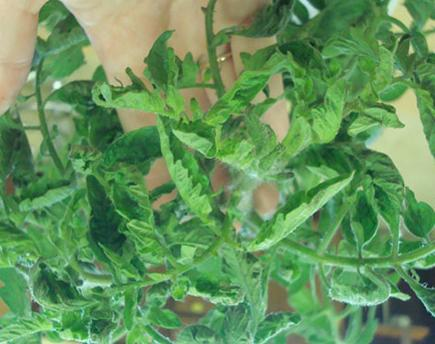Tomato leaf mosaic virus: (240, 173, 351, 257), (159, 118, 226, 238), (203, 67, 278, 125), (109, 160, 155, 247), (399, 187, 435, 240), (250, 309, 303, 344)
